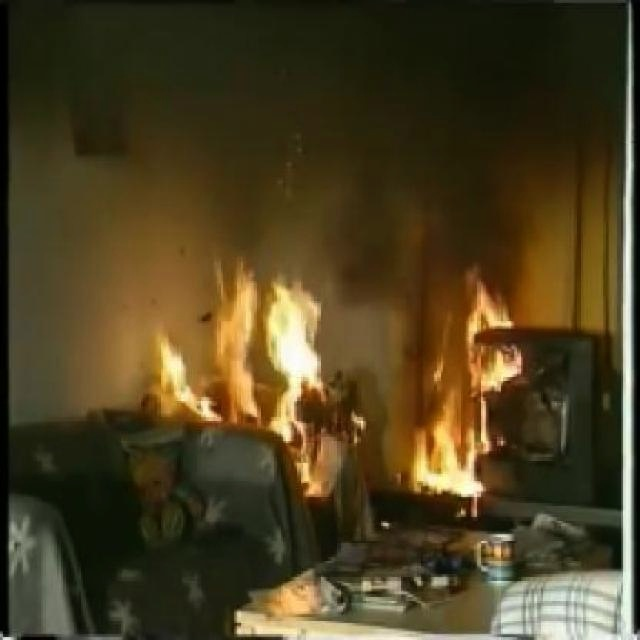fire: (148, 232, 529, 499)
